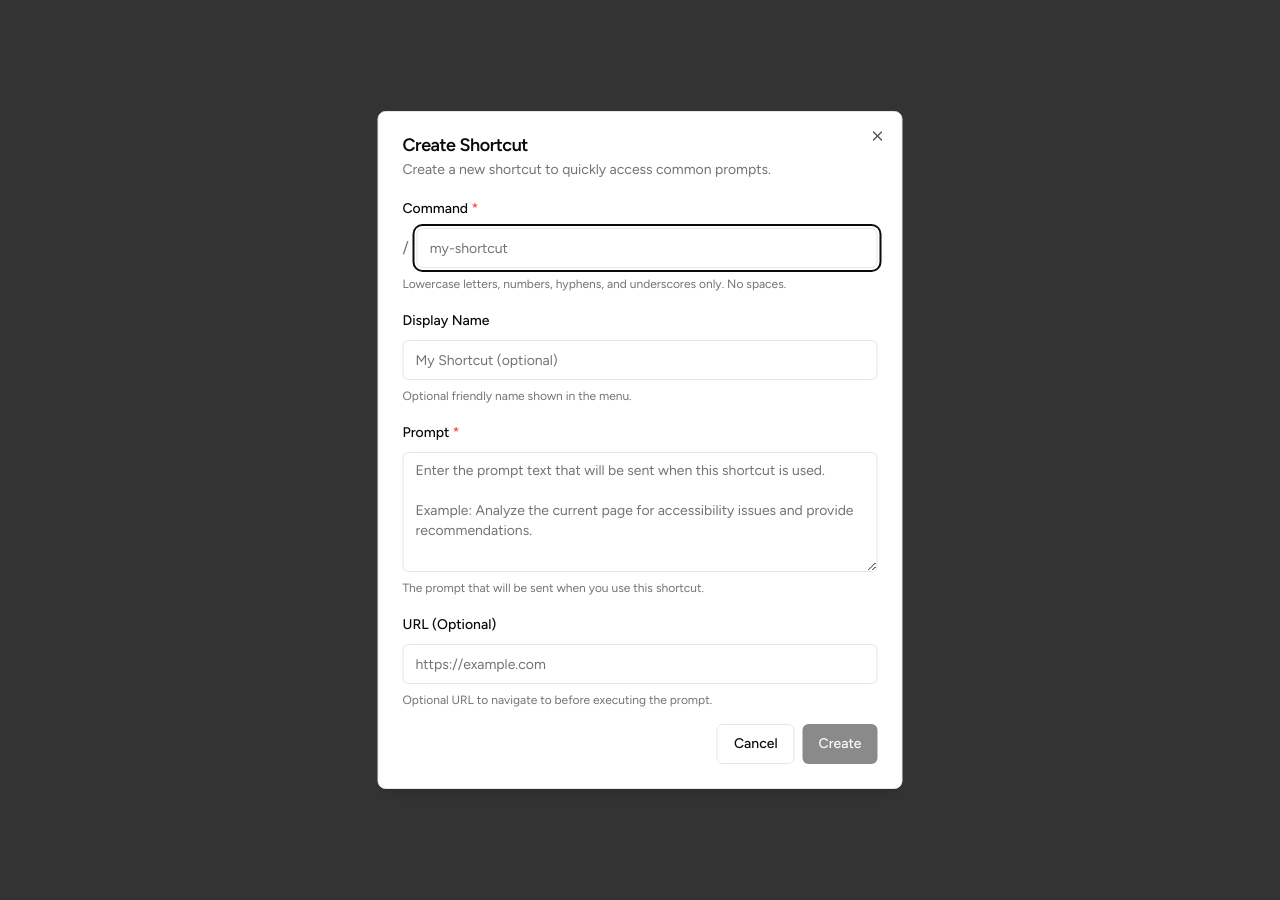
Test: ShortcutEditor › Create Mode › enforces lowercase and no spaces in command field
Type "My Command" into the field labelled "Command *" at (647, 248), box x1=417 y1=228 x2=878 y2=268
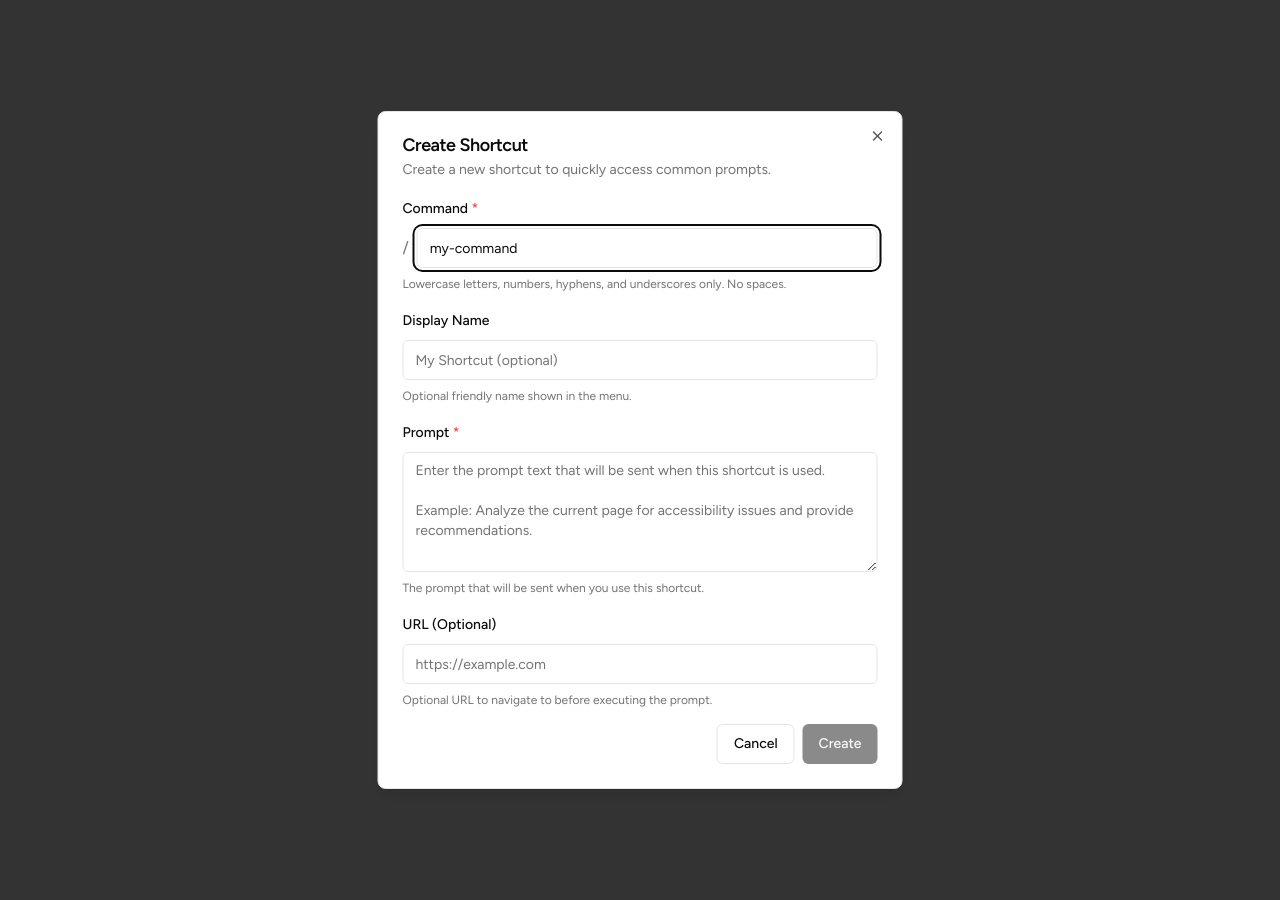
Now the field labelled "Command *" holds "my-command", box x1=417 y1=228 x2=878 y2=268
